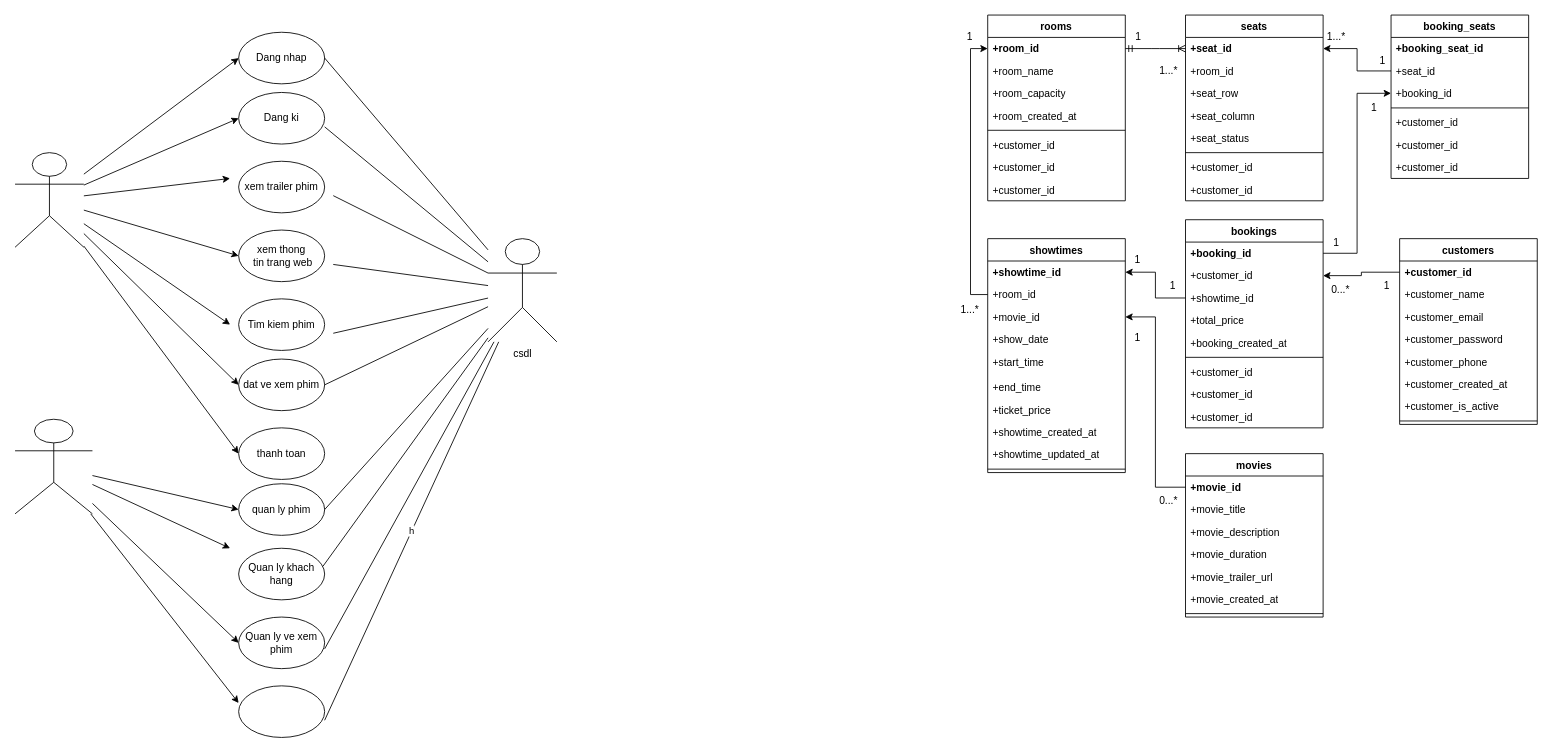
Some shapes in this 1552 by 753 pixel diagram are drawn without their labels. Here are the shapes that lost their labels. From the top down, the centre of each, then its label:
point 49,199: khach hang
point 53,466: Admin
point 281,711: Bao tri
